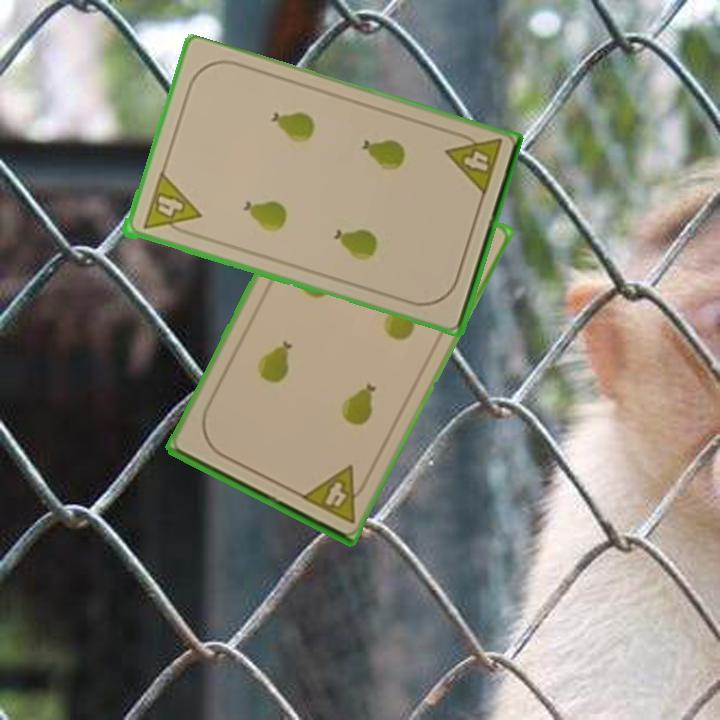4p: (297, 462, 372, 526), (441, 127, 505, 199), (139, 171, 203, 240)
